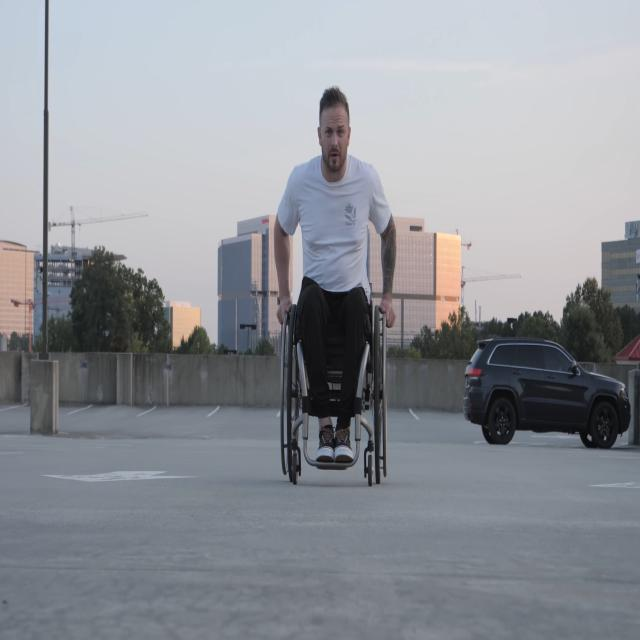wheelchairs: (279, 241, 388, 492)
